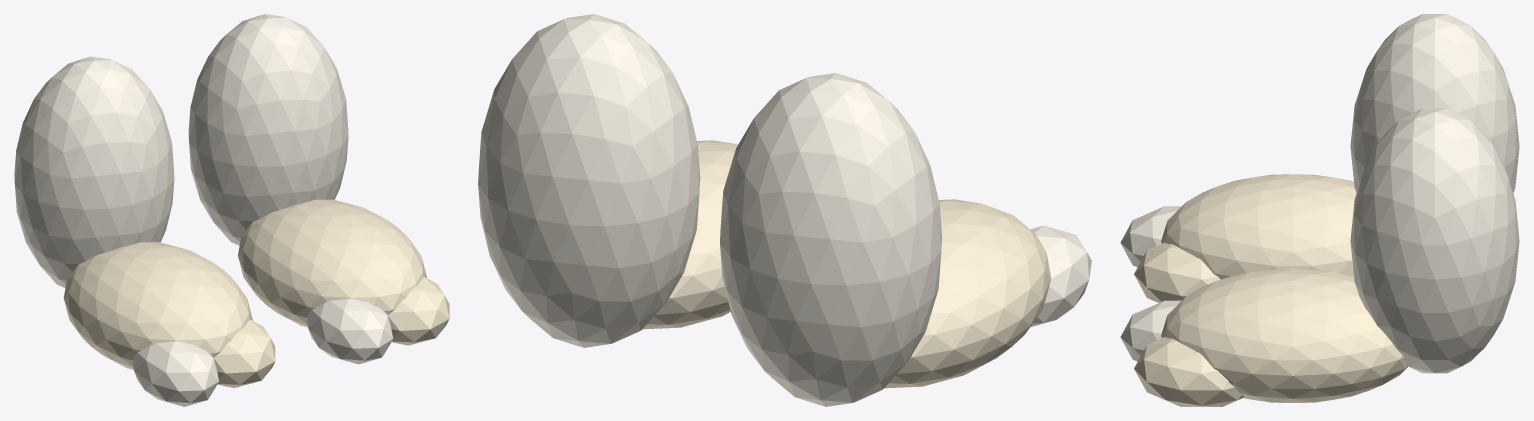
File: wear_tabi.glb
3 views of the same model, side by side, from view 1: azimuth 30°, elevation 25°; view 2: azimuth 150°, elevation 25°; view 3: azimuth 270°, elevation 25° (orthographic). The views are drawn at different scales.
Visible parts, largest first — view 1: Tabi ankle wrap, Tabi ankle wrap.001, Distinct tabi heel.001, Distinct tabi heel, Split tabi big toe.001, Split tabi big toe, Split other toes.001, Split other toes; view 2: Tabi ankle wrap.001, Tabi ankle wrap, Distinct tabi heel, Distinct tabi heel.001, Split tabi big toe; view 3: Tabi ankle wrap.001, Distinct tabi heel.001, Distinct tabi heel, Tabi ankle wrap, Split other toes.001, Split other toes, Split tabi big toe, Split tabi big toe.001.
Boxes of the visible parts, x1,y1,x2,y2 form: Tabi ankle wrap: (14, 56, 174, 288); Tabi ankle wrap.001: (188, 14, 348, 245); Distinct tabi heel.001: (238, 199, 427, 327); Distinct tabi heel: (63, 242, 252, 369); Split tabi big toe.001: (307, 298, 392, 364); Split tabi big toe: (132, 341, 218, 406); Split other toes.001: (387, 277, 449, 345); Split other toes: (213, 319, 275, 387); Tabi ankle wrap.001: (478, 14, 700, 347); Tabi ankle wrap: (720, 73, 941, 406); Distinct tabi heel: (884, 199, 1051, 388); Distinct tabi heel.001: (643, 140, 738, 329); Split tabi big toe: (1030, 225, 1091, 327); Tabi ankle wrap.001: (1350, 108, 1519, 373); Distinct tabi heel.001: (1161, 268, 1408, 402); Distinct tabi heel: (1161, 174, 1356, 279); Tabi ankle wrap: (1350, 14, 1519, 192); Split other toes.001: (1134, 337, 1243, 406); Split other toes: (1134, 242, 1220, 302); Split tabi big toe: (1120, 206, 1181, 267); Split tabi big toe.001: (1120, 300, 1181, 361).
Bounding box in the file's own units: 1.95 × 1.45 × 1.89.
